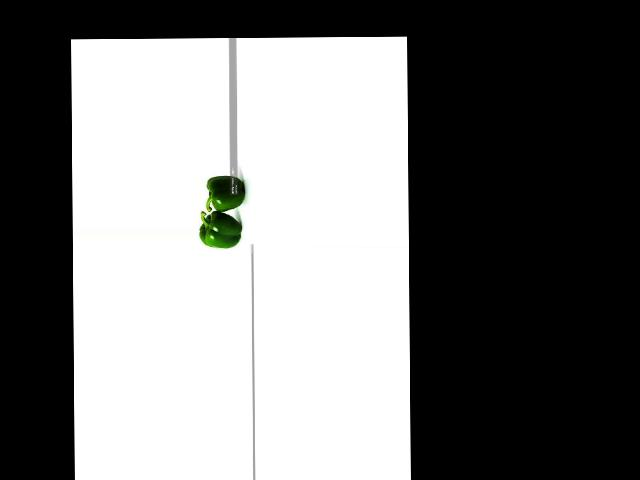bell_pepper: (196, 211, 248, 248)
